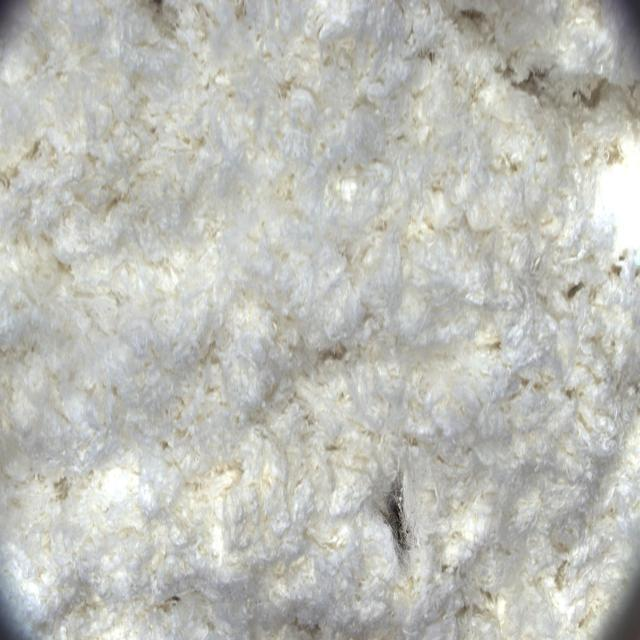dust: (343, 452, 449, 592)
